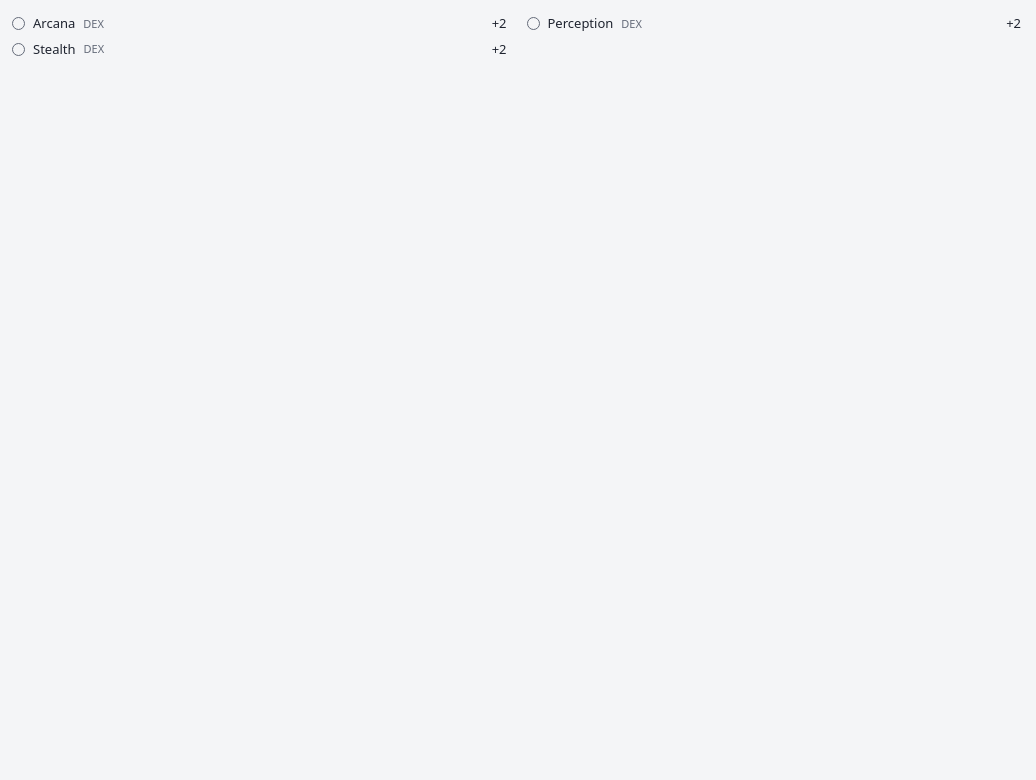
Test case: CatalogSkills › keeps a failed skill's toast through another skill's save, and Retry writes the failed one
Click the button named "Arcana proficiency: Not proficient" at (18, 24), box [12,17,25,30]
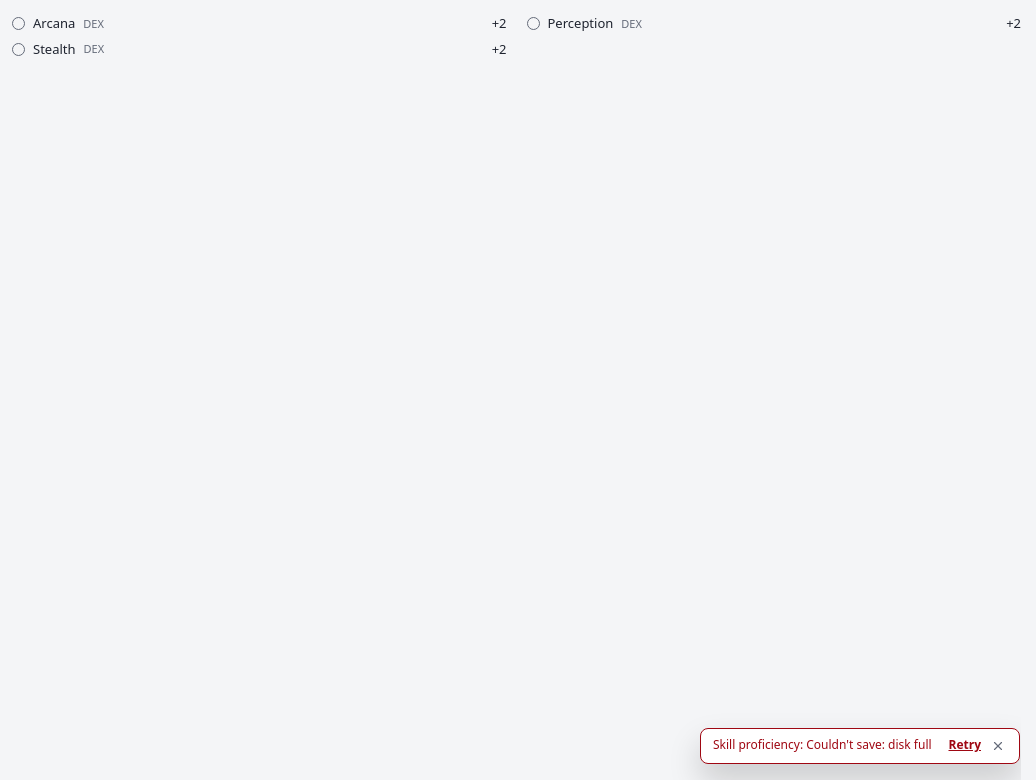
expect the text "Skill proficiency: Couldn't save: disk full" is shown: met, box [713,737,940,753]
Click the button named "Stealth proficiency: Not proficient" at (18, 49), box [12,43,25,56]
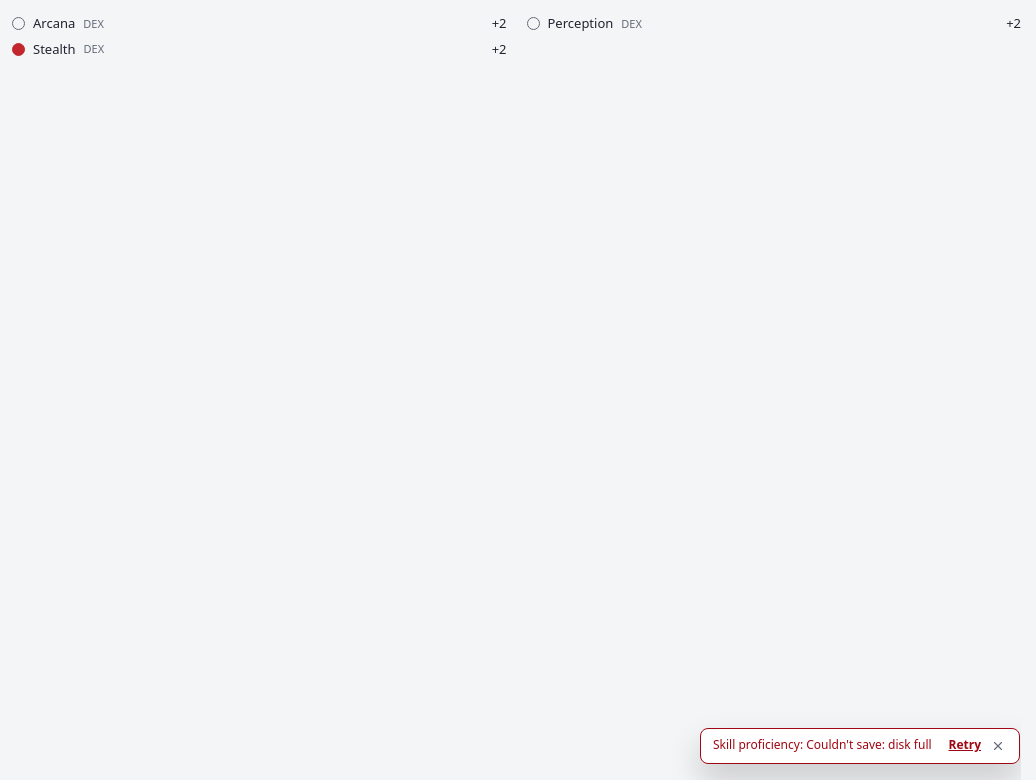
expect the text "Skill proficiency: Couldn't save: disk full" is shown: met, box [713,737,940,753]
expect the button named "Stealth proficiency: Proficient" is shown: met, box [12,43,25,56]
Click the button with aria-label "Retry Skill proficiency" at (965, 745), box [948,737,981,753]
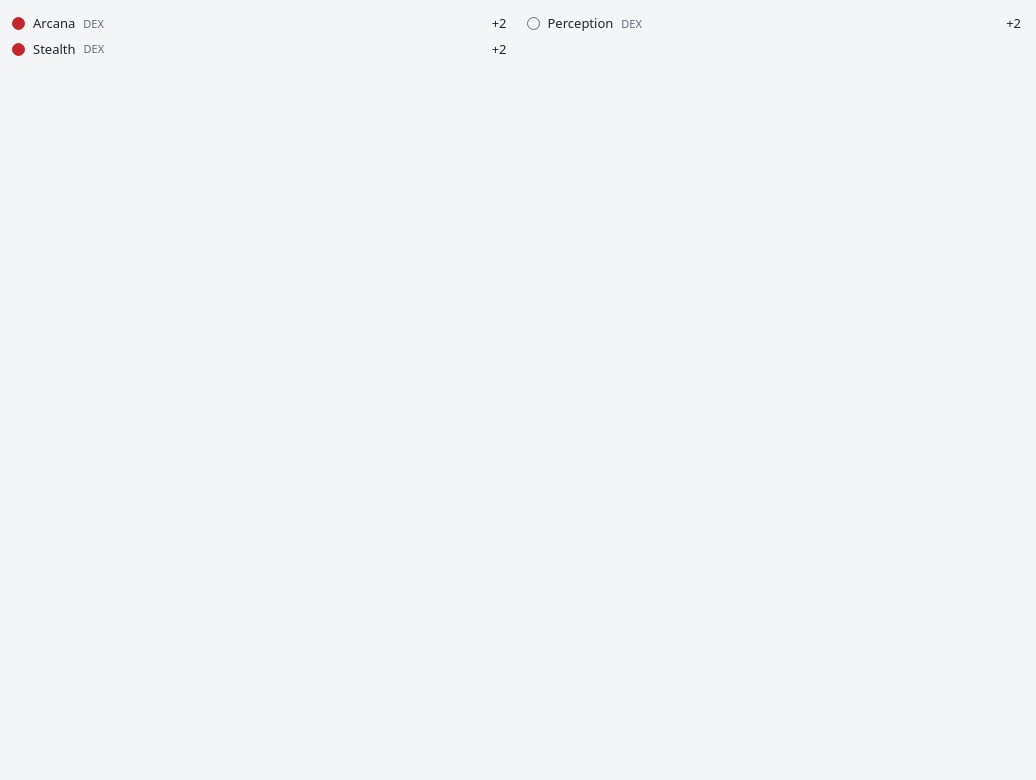
expect the text "Skill proficiency: Couldn't save" is gone: met
